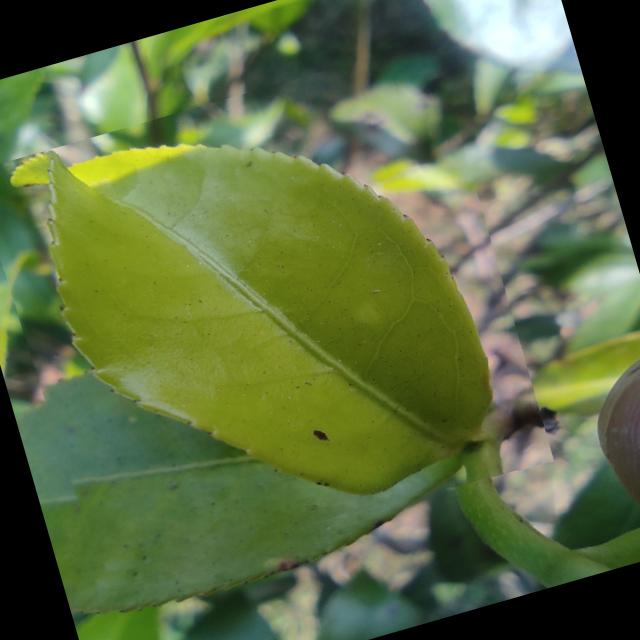Category C(4-7 days): (0, 39, 553, 593)
